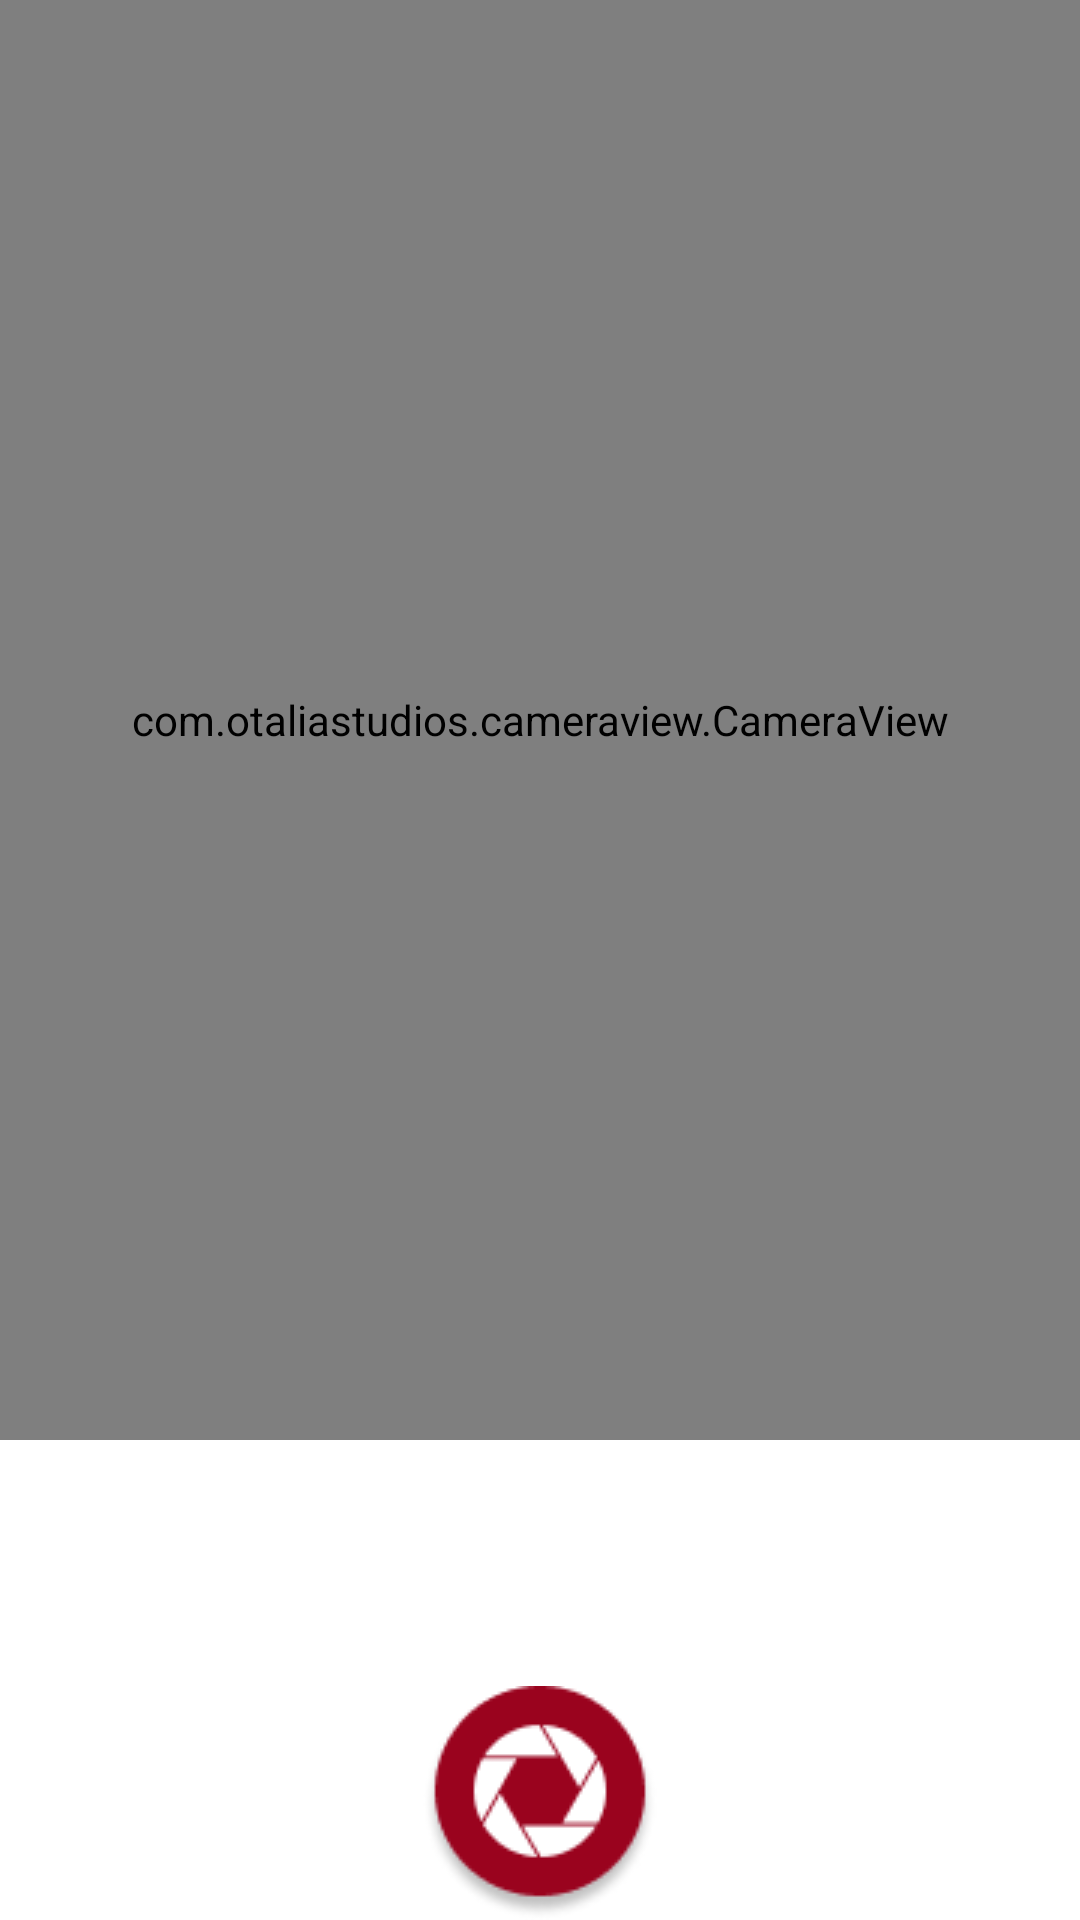

Named icons in this screenshot (1080×1920) and their bounding boxes, [left=x1, top=y1, right=x2, bottom=y2]:
capture: [left=434, top=1686, right=646, bottom=1909]
